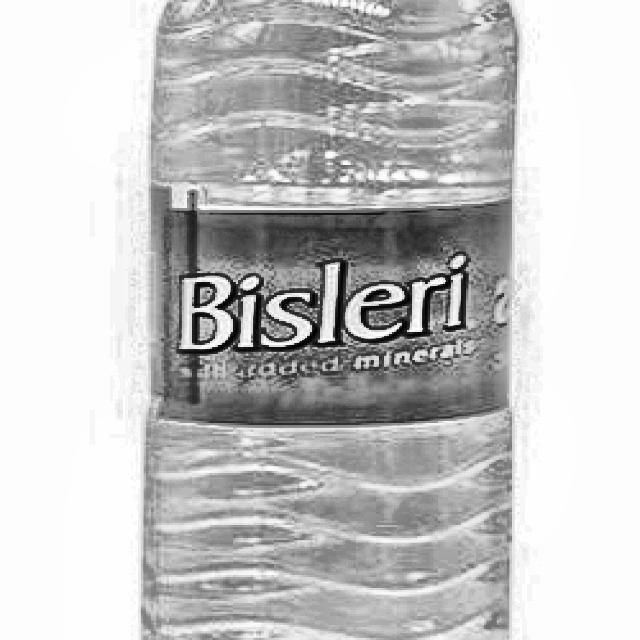bottle: (131, 0, 522, 640)
